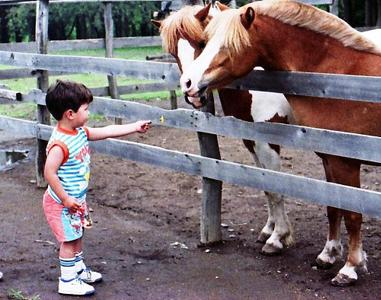person: (42, 78, 152, 296)
